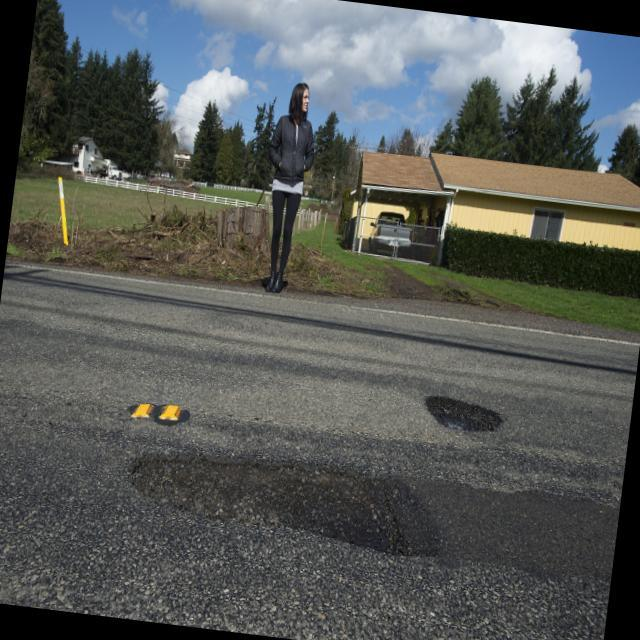Pothole: (124, 438, 432, 569), (416, 376, 506, 448)
